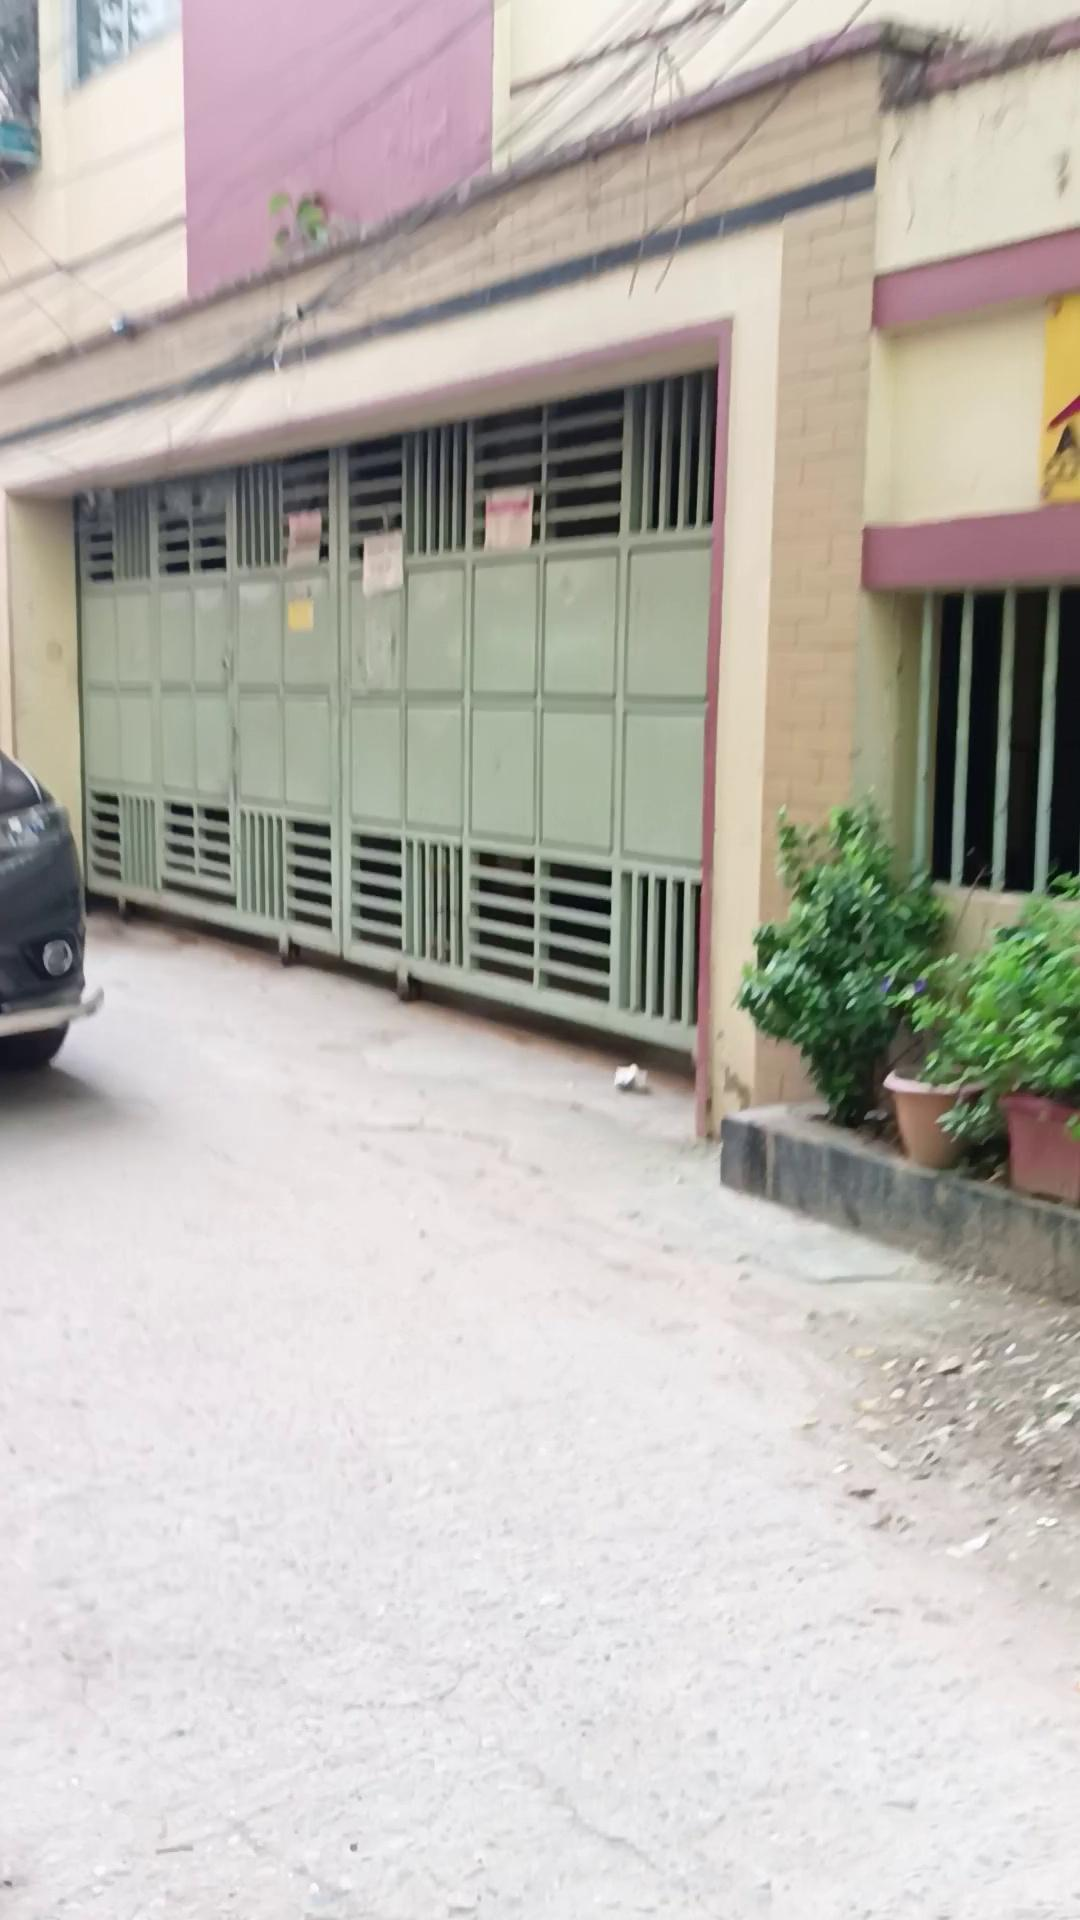Broken-road: (2, 897, 1077, 1917)
Car: (0, 748, 104, 1071)
Crosswalk: (716, 1093, 1078, 1304)
